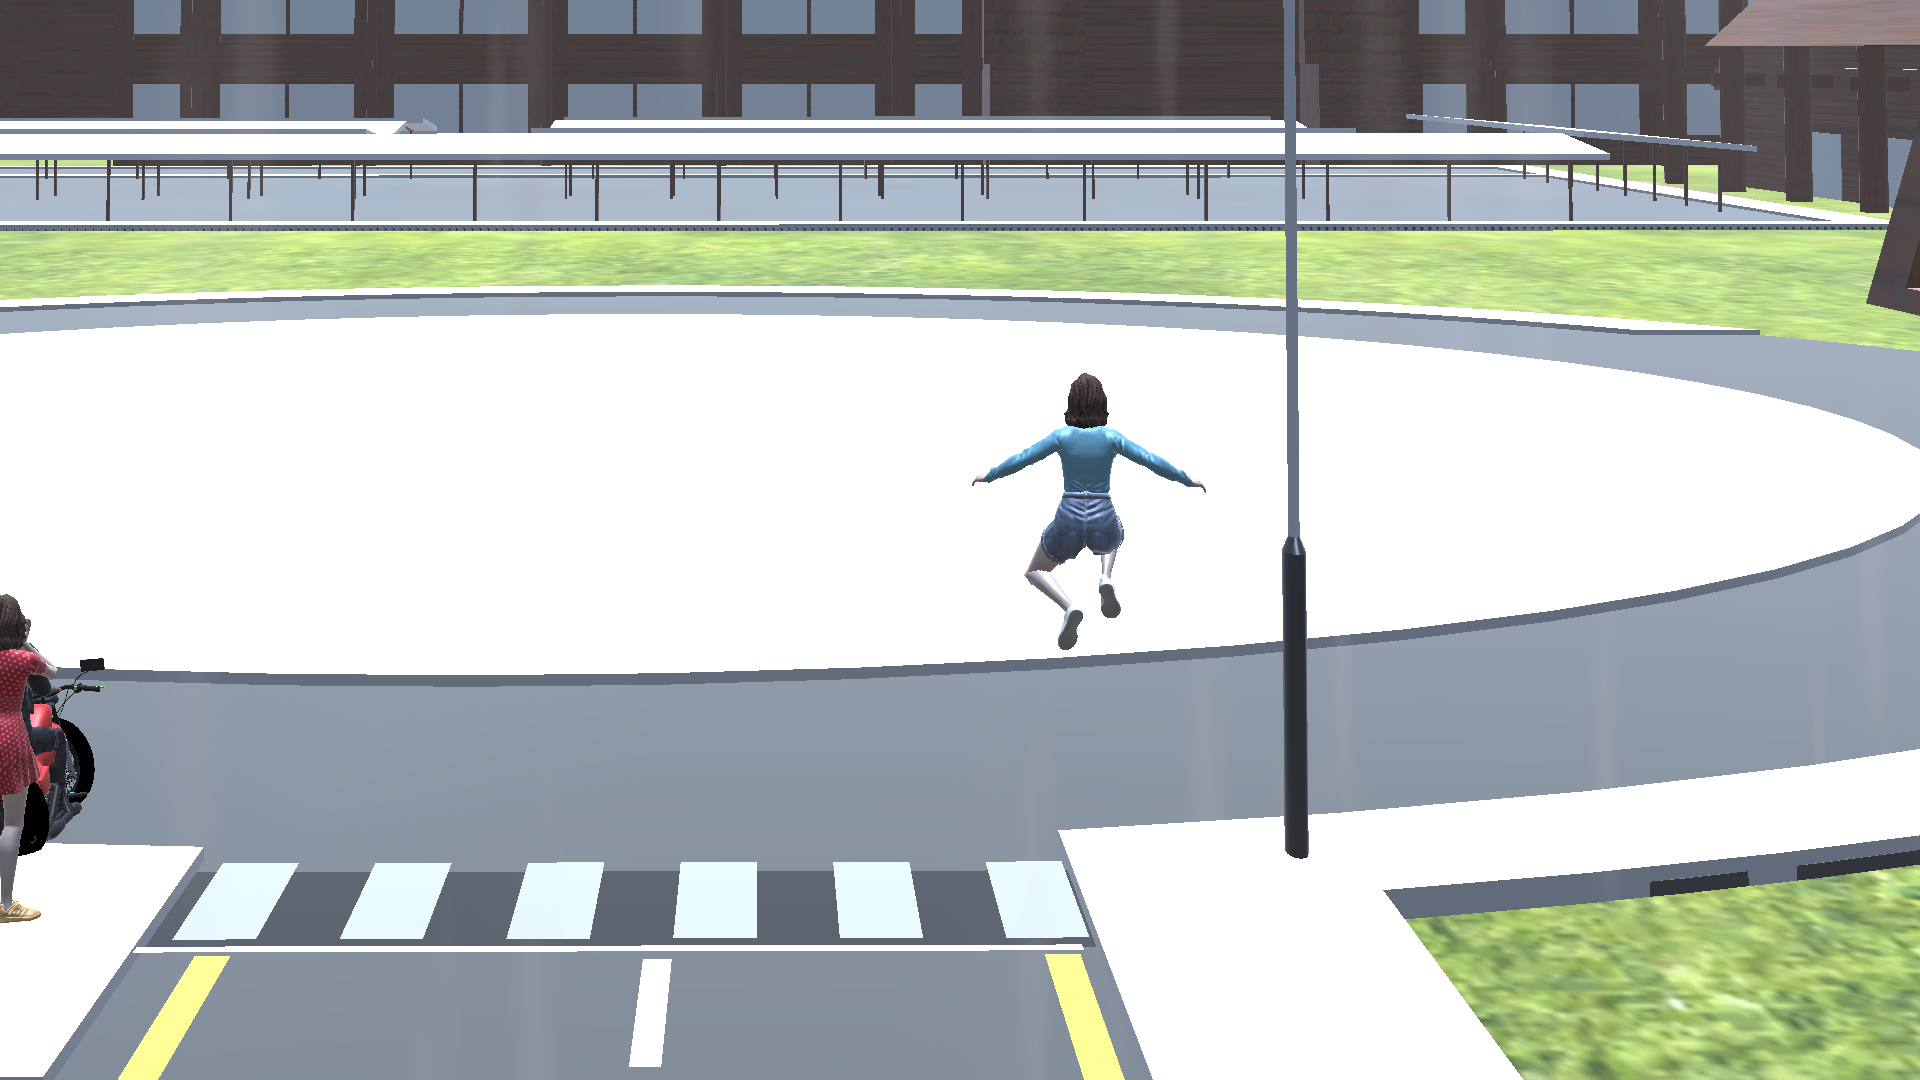pedestrian: (968, 370, 1214, 662), (1, 589, 59, 936)
